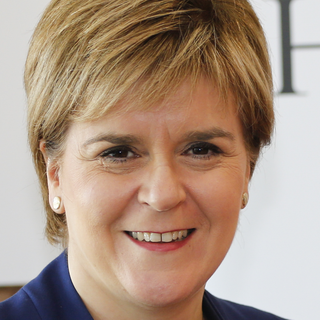eye: (91, 140, 142, 166), (177, 139, 228, 164)
